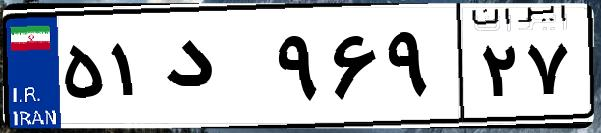1: (110, 28, 158, 98)
2: (475, 38, 525, 113)
5: (57, 26, 110, 100)
6: (330, 28, 385, 110)
7: (525, 38, 570, 115)
9: (270, 28, 330, 110), (385, 28, 445, 110)
د: (158, 20, 270, 120)
